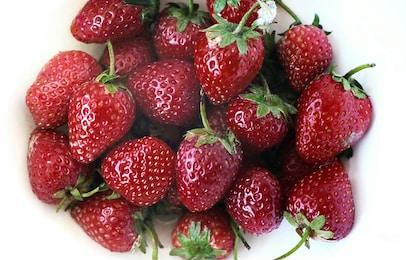Fresa: (291, 61, 376, 171), (21, 119, 102, 214), (284, 151, 359, 249), (170, 123, 249, 216), (23, 47, 107, 134), (61, 73, 136, 169), (124, 52, 207, 134), (192, 20, 266, 109), (66, 183, 151, 257), (96, 131, 177, 208), (272, 21, 337, 93)
